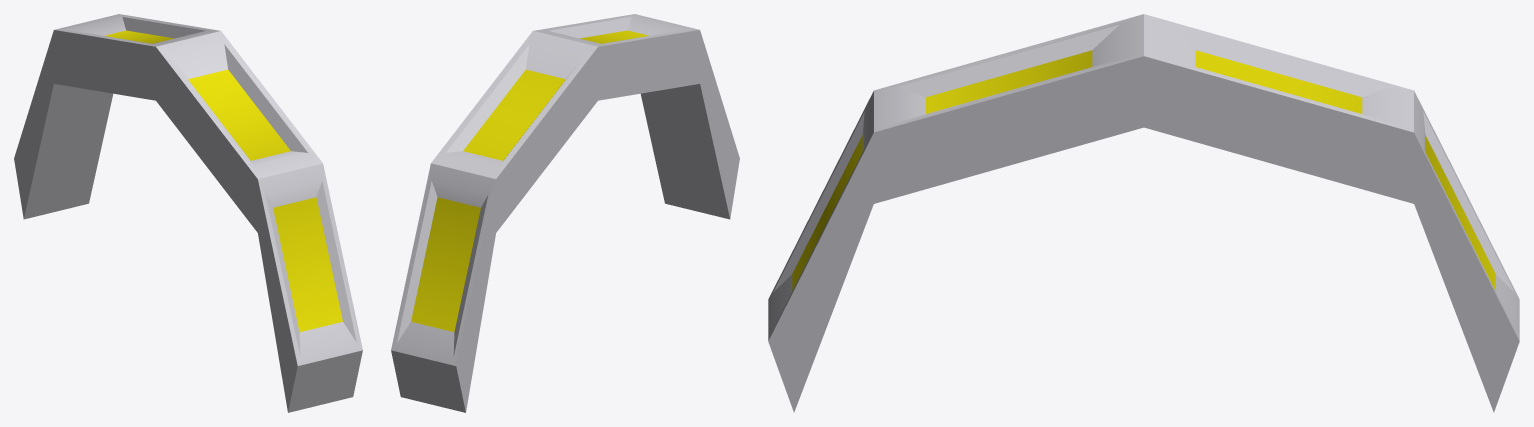
The model's file is BatteryLevel.fbx.
3 views of the same model, side by side, from view 1: azimuth 30°, elevation 25°; view 2: azimuth 150°, elevation 25°; view 3: azimuth 270°, elevation 25° (orthographic). The views are drawn at different scales.
Parts seen in each view (by area): view 1: BatteryLevel; view 2: BatteryLevel; view 3: BatteryLevel.
Part boxes in pixels (box(x1,y1,x2,y2)): BatteryLevel: box(14, 14, 362, 412); BatteryLevel: box(391, 14, 739, 412); BatteryLevel: box(768, 14, 1519, 412).
Bounding box in the file's own units: 0.0808 × 0.3189 × 0.6086.
